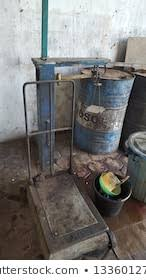Industrial Scale: (21, 54, 118, 259)
